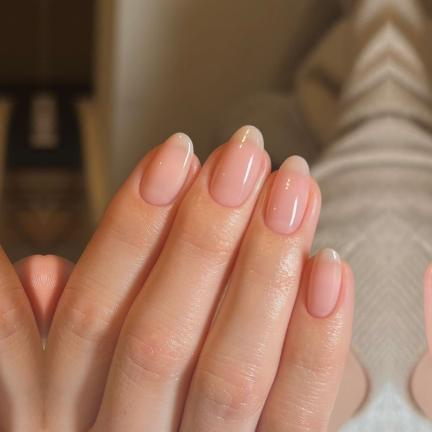Nail: (208, 125, 263, 207), (139, 133, 193, 205), (264, 156, 309, 234), (305, 249, 341, 318)
